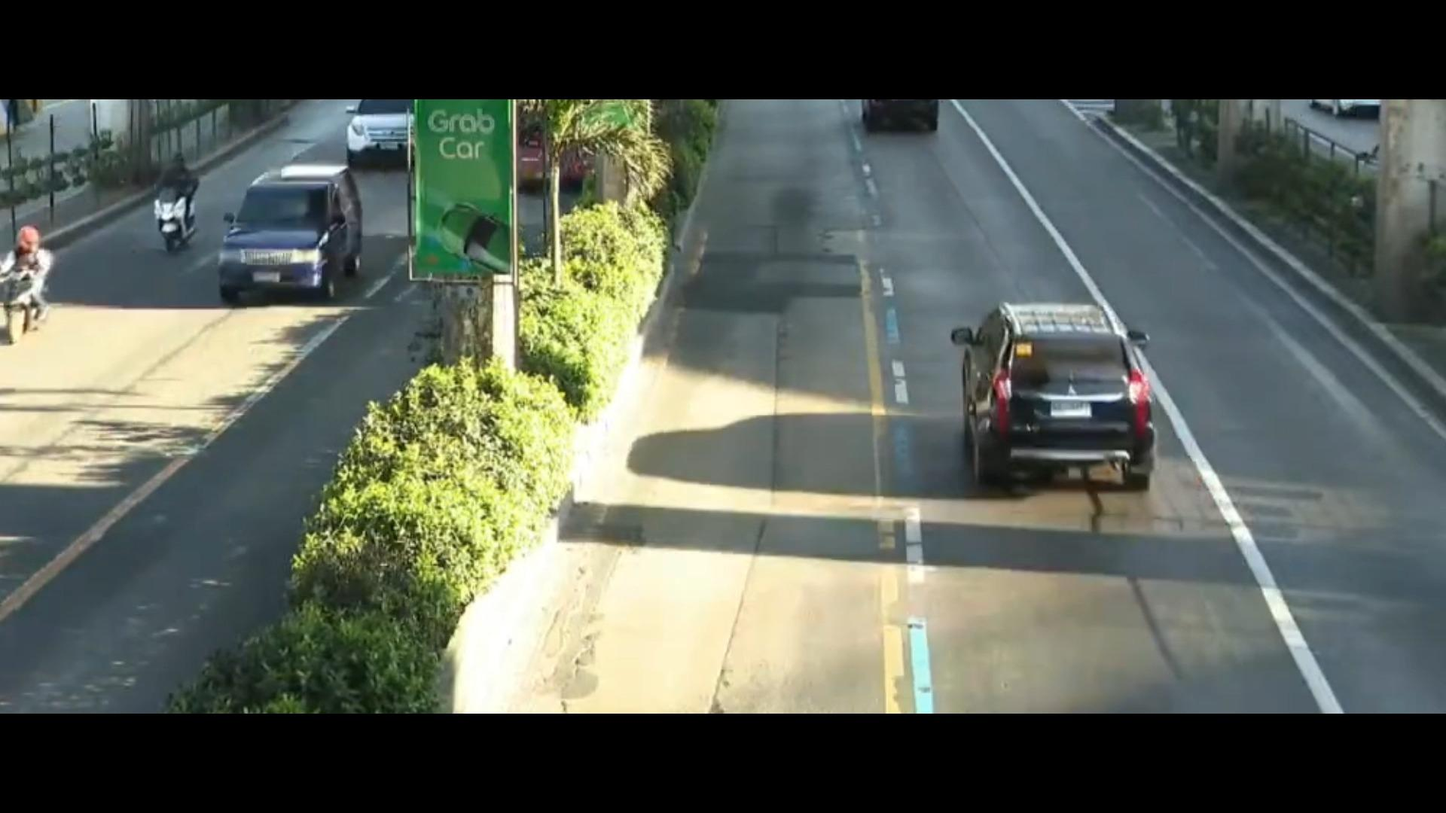Motorcycle: (129, 131, 224, 286), (0, 201, 88, 336)
SUV: (913, 274, 1180, 541), (194, 151, 382, 322), (334, 103, 415, 171)
